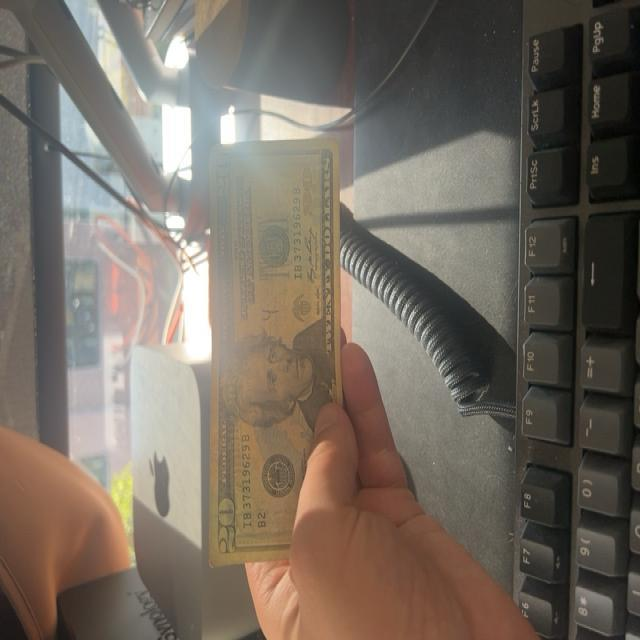twenty: (207, 138, 343, 570)
